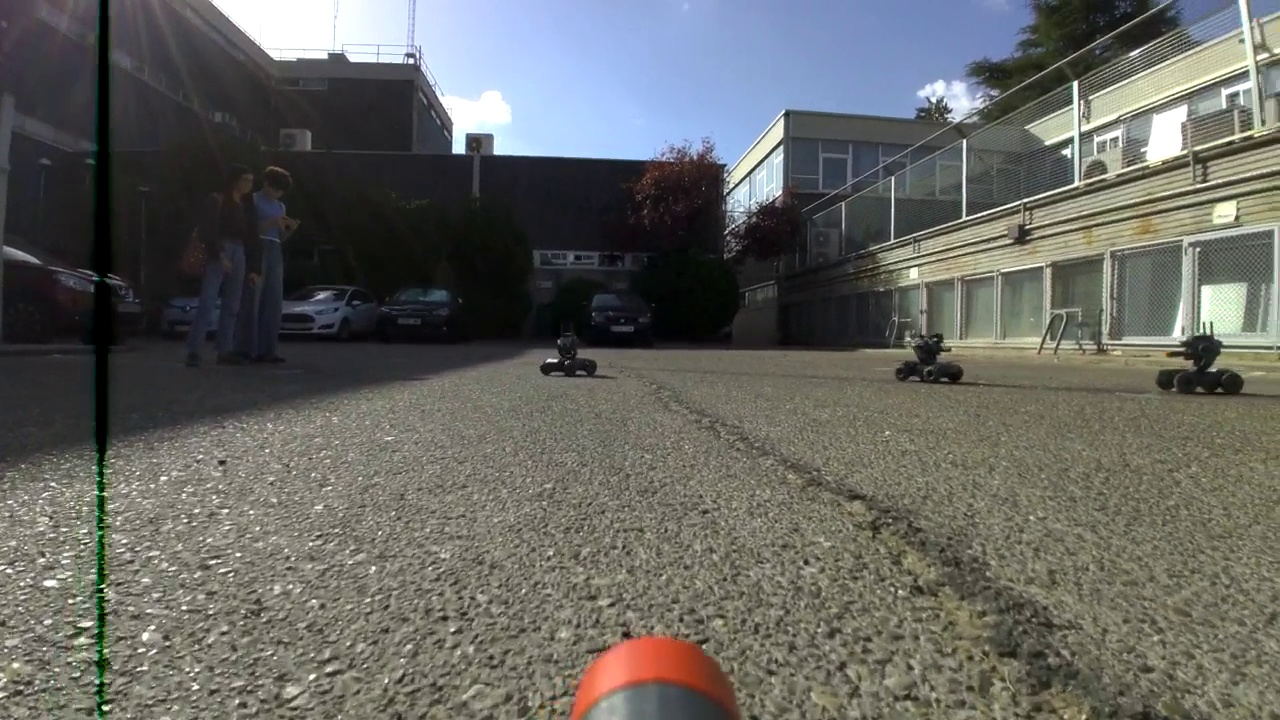robot: (1155, 320, 1246, 398), (892, 326, 965, 385), (534, 315, 599, 378)
